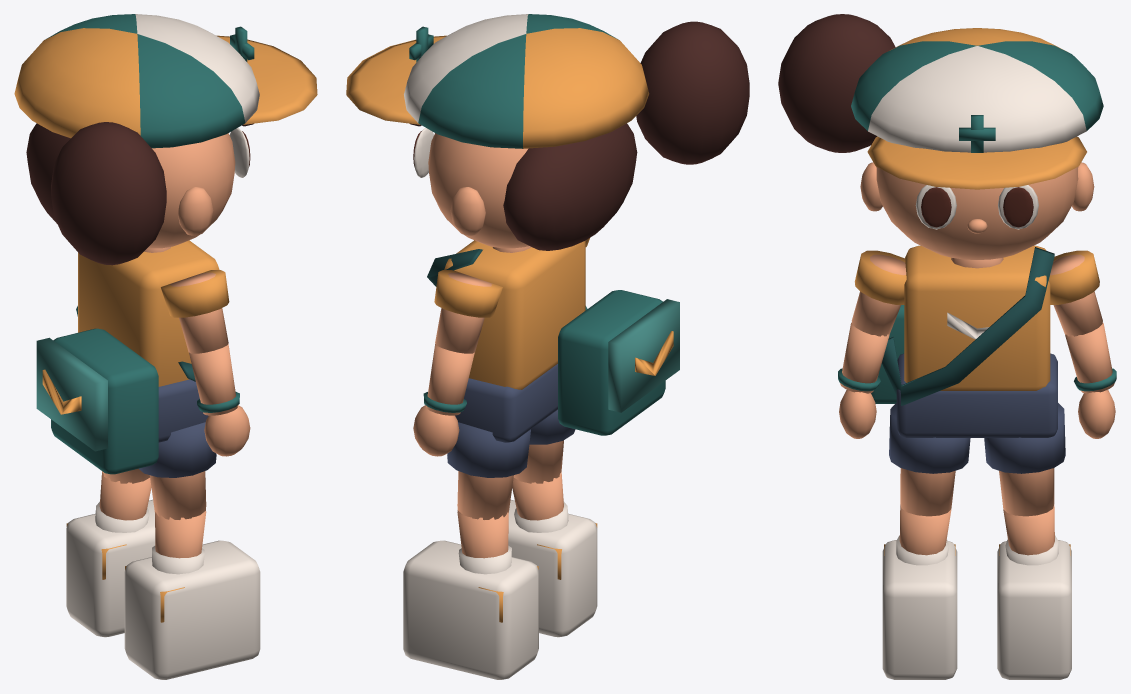
3 views of the same model, side by side, from view 1: azimuth 30°, elevation 25°; view 2: azimuth 150°, elevation 25°; view 3: azimuth 270°, elevation 25° (orthographic).
Parts seen in each view (by area): view 1: head, footR, torso, backpackSocket_geometry, footL, backpackSocket, legR, armR, shinR, shinL, foreArmR, hip (+1 smaller); view 2: head, footL, torso, backpackSocket_geometry, footR, backpackSocket, legL, hip, armL, shinL, shinR, foreArmL (+2 smaller); view 3: head, torso, footR, footL, hip, legR, legL, armR, armL, shinL, shinR, foreArmL (+4 smaller).
Boxes of the visible parts, left/top/right/bottom form: head: left=14, top=14, right=317, bottom=265; footR: left=124, top=540, right=260, bottom=679; torso: left=78, top=240, right=219, bottom=386; backpackSocket_geometry: left=51, top=328, right=158, bottom=474; footL: left=66, top=499, right=155, bottom=637; backpackSocket: left=36, top=337, right=107, bottom=451; legR: left=139, top=422, right=216, bottom=519; armR: left=161, top=270, right=229, bottom=353; shinR: left=152, top=511, right=206, bottom=574; shinL: left=95, top=471, right=151, bottom=532; foreArmR: left=189, top=344, right=239, bottom=415; hip: left=158, top=379, right=208, bottom=442; head: left=346, top=14, right=749, bottom=252; footL: left=403, top=540, right=538, bottom=679; torso: left=427, top=240, right=585, bottom=389; backpackSocket_geometry: left=558, top=290, right=665, bottom=435; footR: left=508, top=500, right=597, bottom=637; backpackSocket: left=608, top=299, right=679, bottom=412; legL: left=447, top=422, right=530, bottom=519; hip: left=455, top=364, right=557, bottom=442; armL: left=434, top=270, right=502, bottom=353; shinL: left=457, top=510, right=511, bottom=574; shinR: left=512, top=472, right=568, bottom=532; foreArmL: left=423, top=344, right=474, bottom=415; head: left=778, top=14, right=1103, bottom=268; torso: left=882, top=245, right=1054, bottom=405; footR: left=882, top=540, right=957, bottom=679; footL: left=997, top=540, right=1071, bottom=679; hip: left=896, top=353, right=1057, bottom=437; legR: left=889, top=403, right=970, bottom=516; legL: left=984, top=403, right=1065, bottom=516; armR: left=851, top=250, right=906, bottom=336; armL: left=1048, top=250, right=1102, bottom=336; shinL: left=1003, top=504, right=1058, bottom=565; shinR: left=896, top=504, right=951, bottom=565; foreArmL: left=1065, top=322, right=1116, bottom=393.
Bounding box in the file's own units: 0.7649 × 1.44 × 0.7368.
